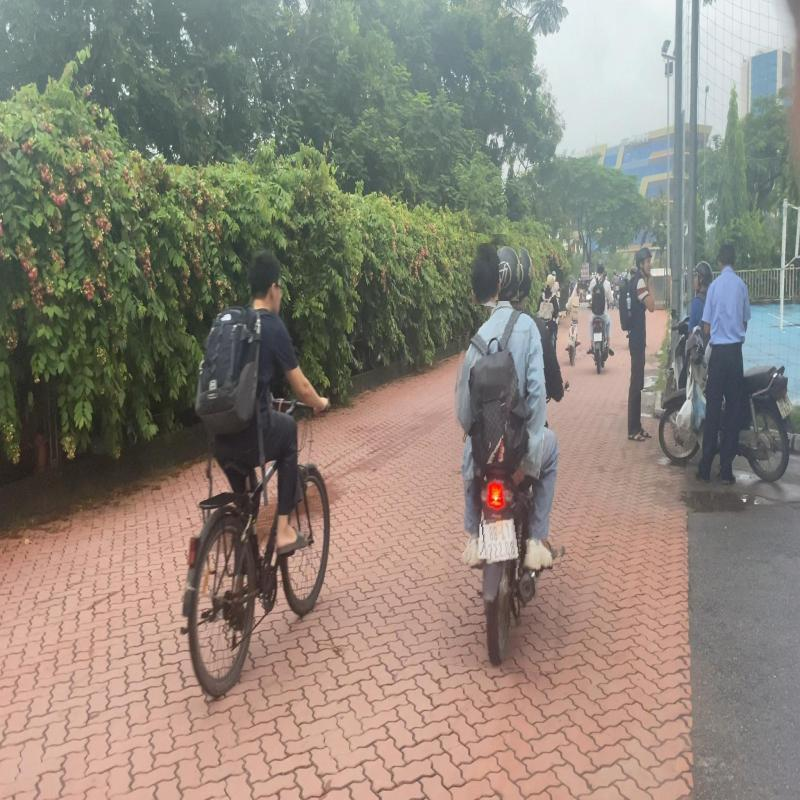helmet: (496, 246, 520, 301)
licenseplate: (483, 518, 519, 564)
motorcyclist: (446, 235, 576, 672)
nohelmet: (468, 243, 503, 307)
